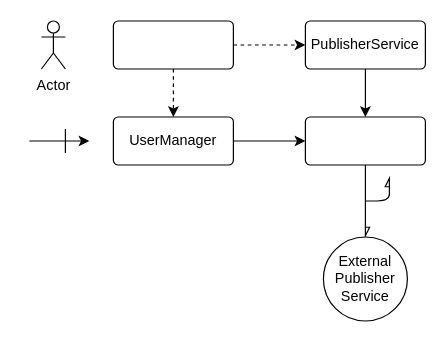
Some shapes in this 446 by 342 pixel diagram are drawn without their labels. Here are the shapes that lost their labels. From the top down, the centre of each, then its label:
At point (172, 44): "AppUI".
At point (364, 140): "Database".
